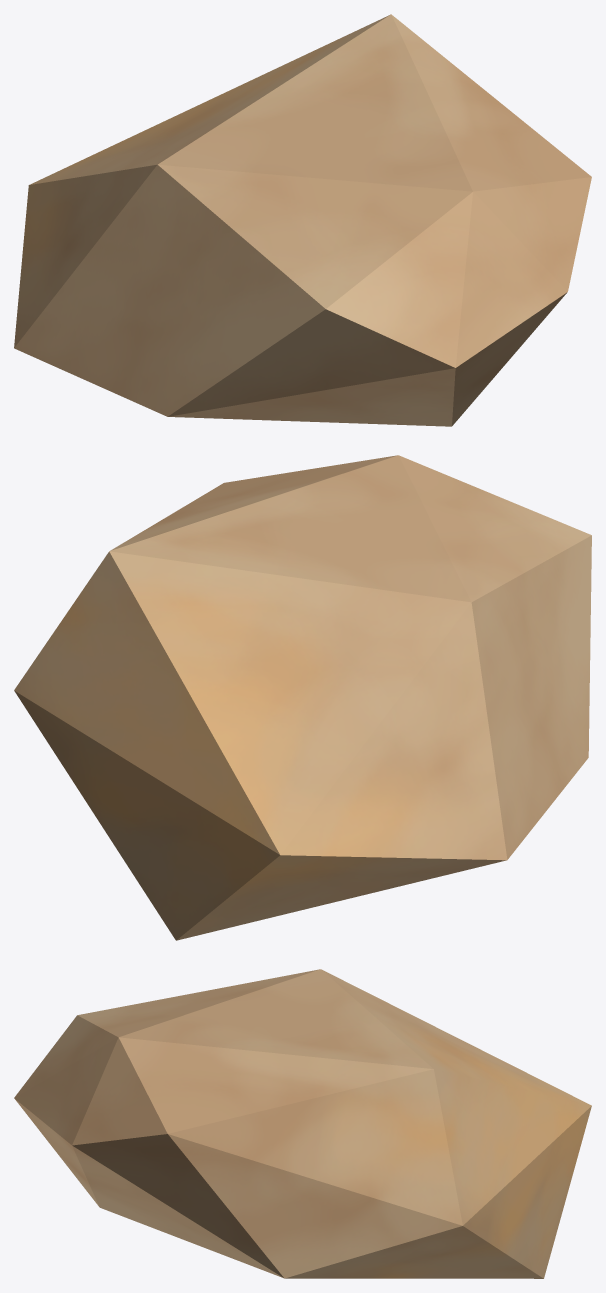
File: Rock_03.fbx
The picture shows the model from 3 angles, top to bottom: view 1: azimuth 30°, elevation 25°; view 2: azimuth 150°, elevation 25°; view 3: azimuth 270°, elevation 25°; orthographic projection. The views are drawn at different scales.
Visible parts, largest first — view 1: Rock_03; view 2: Rock_03; view 3: Rock_03.
Part boxes in pixels (<box>): Rock_03: <box>14,14,591,426</box>; Rock_03: <box>14,455,591,940</box>; Rock_03: <box>14,969,591,1278</box>.
Bounding box in the file's own units: 285 × 182 × 360.
